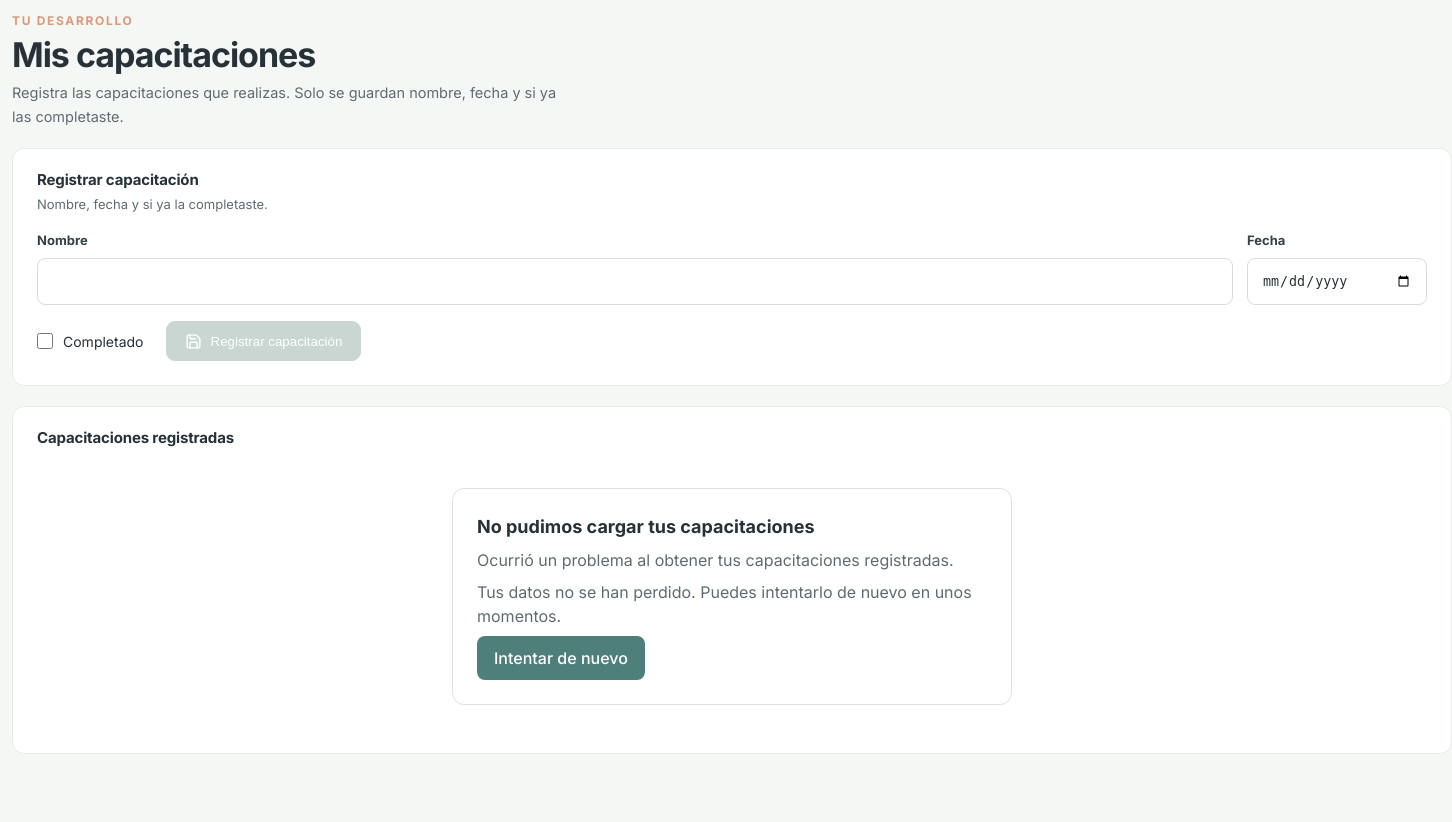
MisCapacitaciones — carga y listado › muestra error de carga y reintenta al pulsar "Intentar de nuevo"
The image size is (1452, 822).
Expected: the heading "No pudimos cargar tus capacitaciones" is shown, [477,516,815,537]
Click the button "Intentar de nuevo": (561, 658) [477,636,645,680]
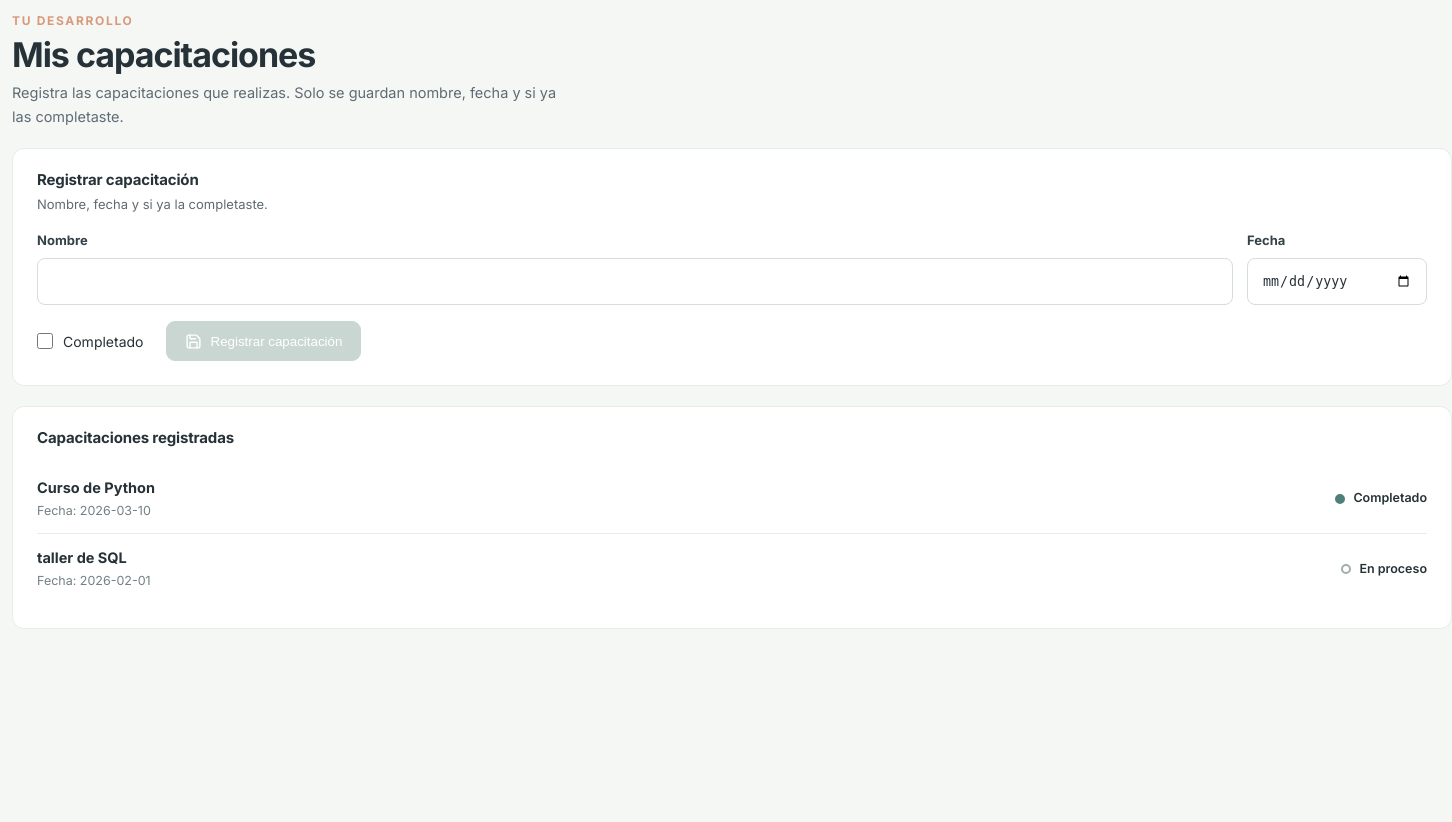
Expected: the text "Curso de Python" is shown, [37,479,155,496]
